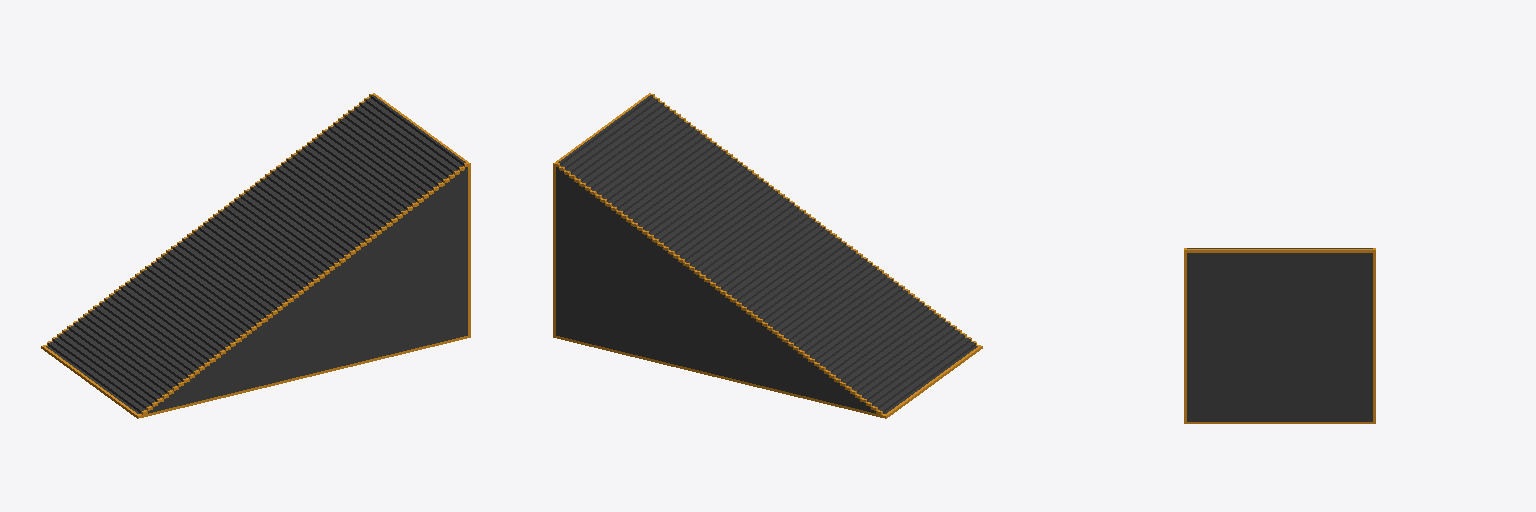
3 renders of one model, left to right at view 1: azimuth 30°, elevation 25°; view 2: azimuth 150°, elevation 25°; view 3: azimuth 270°, elevation 25°, orthographic.
Visible parts, largest first — view 1: object 1; view 2: object 1; view 3: object 1.
Boxes of the visible parts, box(x1,y1,x2,y2) form: object 1: box(41, 93, 470, 418); object 1: box(553, 93, 982, 418); object 1: box(1184, 248, 1375, 423).
Bounding box in the file's own units: 12.8 × 6.4 × 6.4.
Materials: 1 (1 with a texture image).